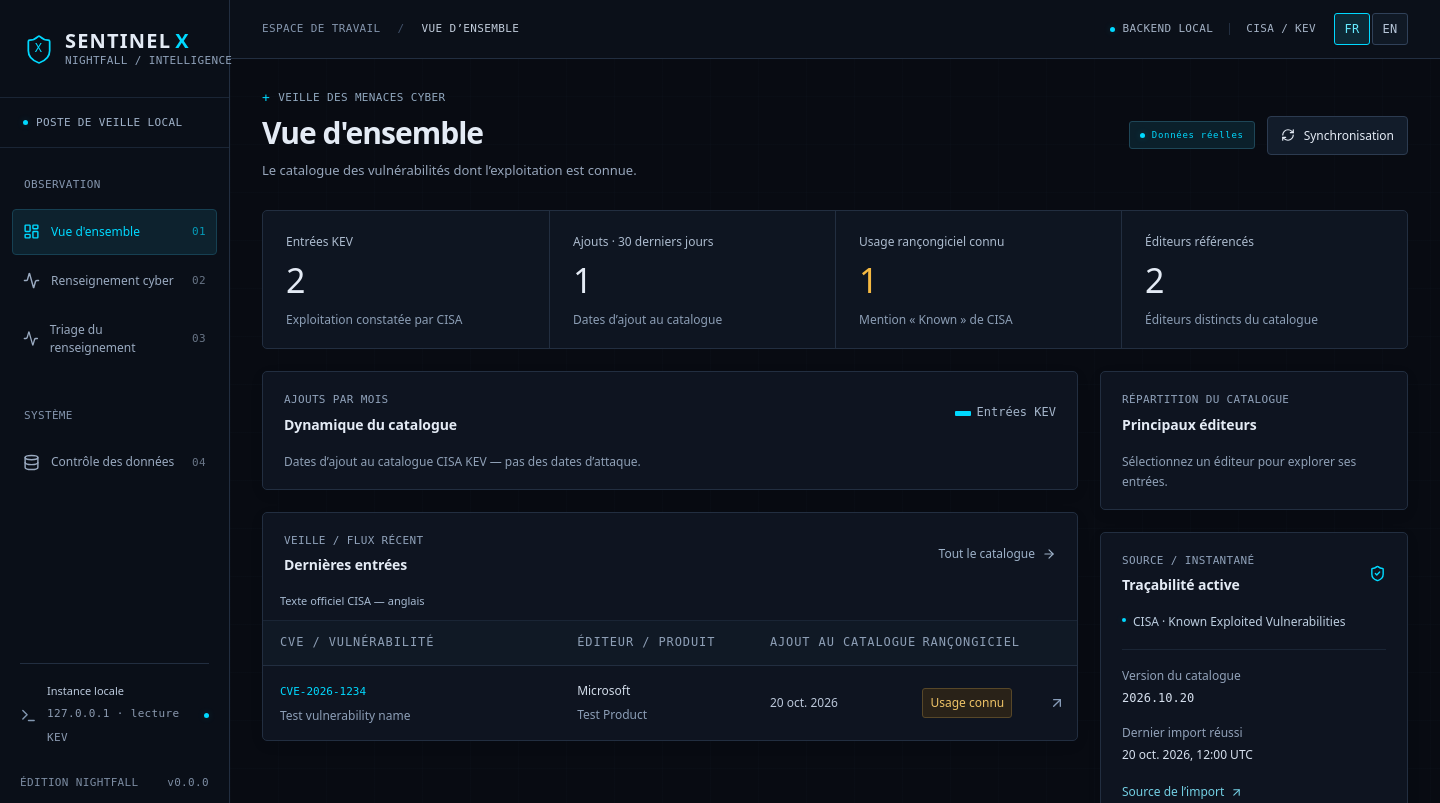
handles a throwing localStorage getter, not just failing storage methods
Check: the text with test id "metric-total" is shown, box [286,257,304,303]
Click the button with test id "language-en". click: (1390, 29)
box: [1372,13,1408,45]
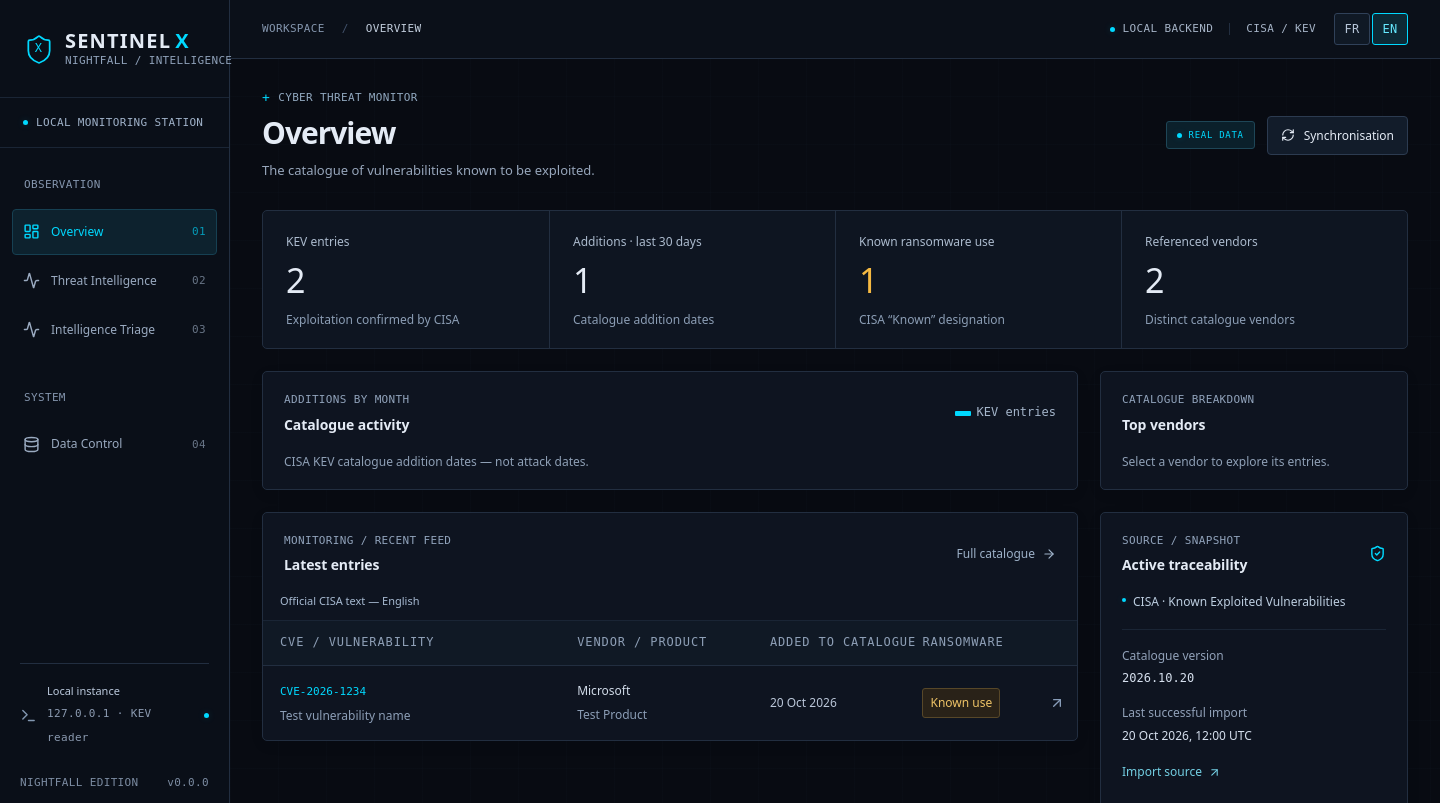
Check: the heading "Overview" is shown, box [262,112,395,153]
